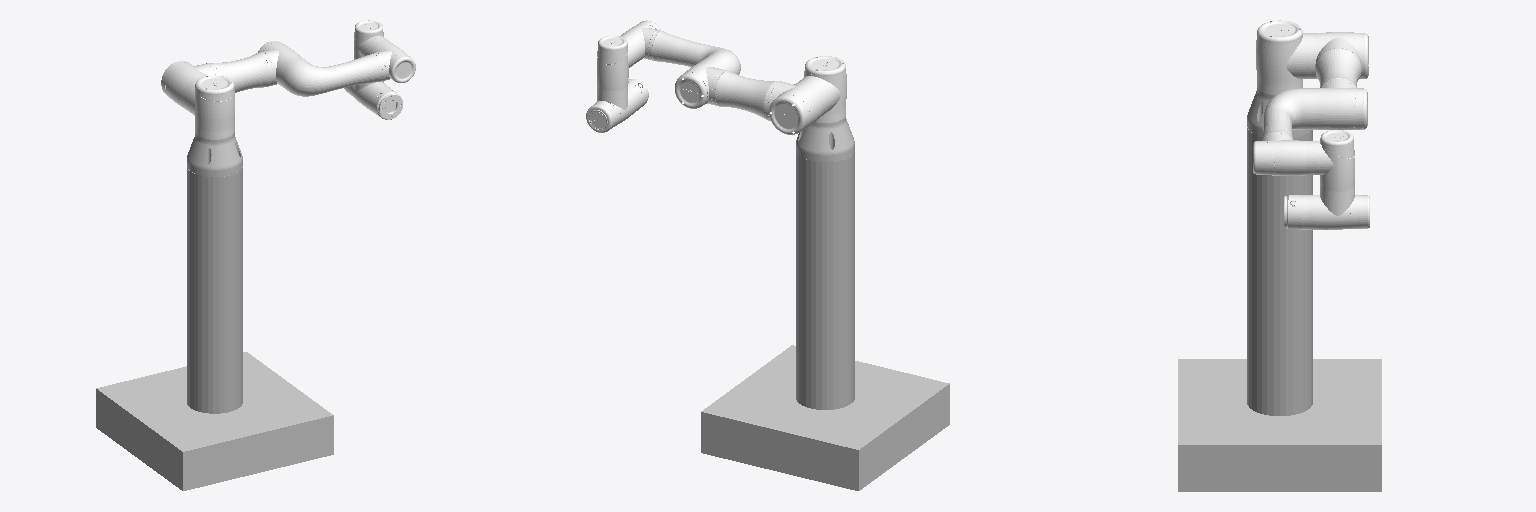
robot.urdf — jaka_zu3:
<?xml version="1.0" encoding="utf-8"?>
<!-- This URDF was automatically created by SolidWorks to URDF Exporter! Originally created by [author] ([email redacted]) 
     Commit Version: 1.6.0-1-g15f4949  Build Version: 1.6.7594.29634
     For more information, please see http://wiki.ros.org/sw_urdf_exporter -->
<robot name="jaka_zu3">
  <link name="base_footprint">
    <visual>
      <geometry>
        <sphere radius="0.001" />
      </geometry>
      <oringin xyz="0 0 0" rpy="0 0 0" />
    </visual>
  </link>
  
  <link name="plain_link" >
    <visual>
      <origin xyz="0 0 0" rpy="0 0 0" />
      <geometry>
        <box size="0.4 0.4 0.1" />
        <origin xyz="0 0 0" rpy="0 0 0" />
      </geometry>
      <material
        name="plaincolor">
        <color rgba="0.84706 0.84706 0.84706 1" />
      </material>
    </visual>
    <collision>
      <origin xyz="0 0 0" rpy="0 0 0" />
      <geometry>
        <box size="0.4 0.4 0.1" />
      </geometry>
    </collision>
    <inertial>
      <origin xyz="0 0 0" rpy="0 0 0" />
      <mass value="50.0" />
      <inertia ixx="0.70833" ixy="0.0" ixz="0.0" 
               iyy="1.33333" iyz="0.0" izz="0.70833" />
    </inertial>
  </link>

  <joint name="base2plain" type="fixed">
    <parent link="base_footprint" />
    <child link="plain_link" />
    <origin xyz="0 0 0.05" rpy="0 0 0" />
  </joint>


  <link name="cylinder_link">
    <visual>
      <geometry>
        <cylinder radius="0.065" length="0.6" /> 
      </geometry>
      <origin xyz="0 0 0" rpy="0 0 0" />
      <material name="gray">
        <color rgba="0.8 0.8 0.8 1" />
      </material>
    </visual>
    <collision>
      <geometry>
        <cylinder radius="0.065" length="0.6" />
      </geometry>
      <origin xyz="0 0 0" rpy="0 0 0" />
    </collision>
    <inertial>
      <origin xyz="0 0 0" rpy="0 0 0" />
      <mass value="20.0" />
      <inertia ixx="0.621125" ixy="0.0" ixz="0.0" 
               iyy="0.621125" iyz="0.0" izz="4.225" />
    </inertial>
  </link> 

  <joint name="plain2cylinder" type="fixed">
    <parent link="plain_link" />
    <child link="cylinder_link" />
    <origin xyz="0 0 0.35" rpy="0 0 0" />
  </joint>

  <link name="Link_0">
    <inertial>
      <origin
          xyz="0 0 0"
          rpy="0 0 0" />
      <mass
          value="0.46393" />
      <inertia
          ixx="0.00064494"
          ixy="-1.0227E-07"
          ixz="-1.0724E-05"
          iyy="0.00065157"
          iyz="3.7859E-07"
          izz="0.00083278" />
    </inertial>
    <visual>
      <origin xyz="0.0 0.0 0" rpy="0 0 0" />
      <geometry>
        <mesh filename="package://jaka_zu3_myurdf/meshes/Link_0.STL" />
      </geometry>
      <material
        name="Link_0Color">
        <color
          rgba="0.84706 0.84706 0.84706 1" />
      </material>
    </visual>
    <collision>
      <origin xyz="0 0 0" rpy="0 0 0" />
      <geometry>
        <mesh filename="package://jaka_zu3_myurdf/meshes/Link_0.STL" />
      </geometry>
    </collision>
  </link>

  <joint name="cylinder2base" type="fixed">
    <parent link="cylinder_link" />
    <child link="Link_0" />
    <origin xyz="0 0 0.3" rpy="0 0 0" />
  </joint>

  <link name="Link_1">
    <inertial>
        <origin
          xyz="0 0 0"
          rpy="0 0 0" />
        <mass
          value="0.88365" />
        <inertia
          ixx="0.0015634"
          ixy="1.5495E-08"
          ixz="5.6443E-09"
          iyy="0.0015047"
          iyz="-9.0168E-06"
          izz="0.0010527" />
      </inertial>
    
    <visual>
      <origin xyz="0 0 0" rpy="0 0 0" />
      <geometry>
        <mesh filename="package://jaka_zu3_myurdf/meshes/Link_1.STL" />
      </geometry>
      <material
        name="Link_1Color">
        <color
          rgba="1 1 1 1" />
      </material>
    </visual>
    <collision>
      <origin xyz="0 0 0" rpy="0 0 0" />
      <geometry>
        <mesh filename="package://jaka_zu3_myurdf/meshes/Link_1.STL" />
      </geometry>
    </collision>
  </link>

  <joint name="joint_1" type="revolute">
    <origin xyz="0 0 0.15055" rpy="0 0 0" />
    <parent link="Link_0" />
    <child link="Link_1" />
    <axis xyz="0 0 1" />
    <limit
      lower="-4.71"
      upper="4.71"
      effort="300"
      velocity="3.14" />
    <dynamics
      damping="50"
      friction="1" />
  </joint>

  <link name="Link_2">
    <inertial>
        <origin
          xyz="0.114 -5.5358E-07 -0.11162"
          rpy="0 0 0" />
        <mass
          value="2.3202" />
        <inertia
          ixx="0.0032518"
          ixy="1.6898E-08"
          ixz="-3.3843E-06"
          iyy="0.0045664"
          iyz="9.1919E-09"
          izz="0.0035107" />
      </inertial>
    <visual>
      <origin xyz="0 0 0" rpy="0 0 0" />
      <geometry>
        <mesh filename="package://jaka_zu3_myurdf/meshes/Link_2.STL" />
      </geometry>
      <material
        name="Link_2Color">
        <color
          rgba="1 1 1 1" />
      </material>
    </visual>
    <collision>
      <origin xyz="0 0 0" rpy="0 0 0" />
      <geometry>
        <mesh filename="package://jaka_zu3_myurdf/meshes/Link_2.STL" />
      </geometry>
    </collision>
  </link>

  <joint name="joint_2" type="revolute">
    <origin xyz="0 0 0" rpy="1.5708 0 0" />
    <parent link="Link_1" />
    <child link="Link_2" />
    <axis xyz="0 0 1" />
    <limit
      lower="-1.48"
      upper="4.62"
      effort="300"
      velocity="3.14" />
    <dynamics
      damping="50"
      friction="1" />
  </joint>

  <link name="Link_3">
    <inertial>
        <origin
          xyz="0 0 0"
          rpy="0 0 0" />
        <mass
          value="1.2034" />
        <inertia
          ixx="0.00093819"
          ixy="1.276E-07"
          ixz="-0.00033673"
          iyy="0.0038664"
          iyz="5.3811E-08"
          izz="0.0036229" />
      </inertial>
    
    <visual>
      <origin xyz="0 0 0" rpy="0 0 0" />
      <geometry>
        <mesh filename="package://jaka_zu3_myurdf/meshes/Link_3.STL" />
      </geometry>
      <material
        name="Link_3Color">
        <color
          rgba="1 1 1 1" />
      </material>
    </visual>
    <collision>
      <origin xyz="0 0 0" rpy="0 0 0" />
      <geometry>
        <mesh filename="package://jaka_zu3_myurdf/meshes/Link_3.STL" />
      </geometry>
    </collision>
  </link>

  <joint name="joint_3" type="revolute">
    <origin xyz="0.246 0 0" rpy="0 0 0" />
    <parent link="Link_2" />
    <child link="Link_3" />
    <axis xyz="0 0 1" />
    <limit lower="-3.05" upper="3.05" effort="330" velocity="3.14" />
    <dynamics damping="50" friction="1" />
  </joint>

  <link name="Link_4">
    <inertial>
        <origin
          xyz="6.5395E-08 -0.014051 0.0031609"
          rpy="0 0 0" />
        <mass
          value="0.49334" />
        <inertia
          ixx="0.00050163"
          ixy="-3.5155E-09"
          ixz="-2.6858E-09"
          iyy="0.00032415"
          iyz="-6.2159E-05"
          izz="0.00047909" />
      </inertial>
    
    <visual>
      <origin xyz="0 0 0" rpy="0 0 0" />
      <geometry>
        <mesh filename="package://jaka_zu3_myurdf/meshes/Link_4.STL" />
      </geometry>
      <material
        name="Link_4Color">
        <color
          rgba="1 1 1 1" />
      </material>
    </visual>
    <collision>
      <origin xyz="0 0 0" rpy="0 0 0" />
      <geometry>
        <mesh filename="package://jaka_zu3_myurdf/meshes/Link_4.STL" />
      </geometry>
    </collision>
  </link>
  <gazebo reference="Link_4">
    <meterial>Gazebo/Grey</meterial>
  </gazebo>

  <joint name="joint_4" type="revolute">
    <origin xyz="0.228 0 -0.113" rpy="0 0 0" />
    <parent link="Link_3" />
    <child link="Link_4" />
    <axis xyz="0 0 1" />
    <limit lower="-1.48" upper="4.62" effort="330" velocity="3.14" />
    <dynamics damping="50" friction="1" />
  </joint>

  <link name="Link_5">
    <inertial>
        <origin
          xyz="2.5684E-07 0.0068642 -0.0021581"
          rpy="0 0 0" />
        <mass
          value="0.55082" />
        <inertia
          ixx="0.0010014"
          ixy="4.8947E-09"
          ixz="4.7274E-10"
          iyy="0.00036028"
          iyz="-1.6847E-05"
          izz="0.0009728" />
      </inertial>
    
    <visual>
      <origin xyz="0 0 0" rpy="0 0 0" />
      <geometry>
        <mesh filename="package://jaka_zu3_myurdf/meshes/Link_5.STL" />
      </geometry>
      <material
        name="Link_5Color">
        <color
          rgba="1 1 1 1" />
      </material>
    </visual>
    <collision>
      <origin xyz="0 0 0" rpy="0 0 0" />
      <geometry>
        <mesh filename="package://jaka_zu3_myurdf/meshes/Link_5.STL" />
      </geometry>
    </collision>
  </link>
  <gazebo reference="Link_5">
    <meterial>Gazebo/Grey</meterial>
  </gazebo>

  <joint name="joint_5" type="revolute">
    <origin xyz="0 -0.11675 0" rpy="1.5708 0 0" />
    <parent link="Link_4" />
    <child link="Link_5" />
    <axis xyz="0 0 1" />
    <limit lower="-4.71" upper="4.71" effort="330" velocity="3.83" />
    <dynamics damping="50" friction="1" />
  </joint>

  <link name="Link_6">
    <inertial>
        <origin
          xyz="5.2572E-05 -0.0001007 -0.0091035"
          rpy="0 0 0" />
        <mass
          value="0.094884" />
        <inertia
          ixx="3.2886E-05"
          ixy="-8.8218E-08"
          ixz="-5.2215E-08"
          iyy="3.3701E-05"
          iyz="2.9383E-07"
          izz="5.458E-05" />
      </inertial>
    
    <visual>
      <origin xyz="0 0 0" rpy="0 0 0" />
      <geometry>
        <mesh filename="package://jaka_zu3_myurdf/meshes/Link_6.STL" />
      </geometry>
      <material
        name="Link_6Color">
        <color
          rgba="1 1 1 1" />
      </material>
    </visual>
    <collision>
      <origin xyz="0 0 0" rpy="0 0 0" />
      <geometry>
        <mesh filename="package://jaka_zu3_myurdf/meshes/Link_6.STL" />
      </geometry>
    </collision>
  </link>
  <gazebo reference="Link_6">
    <meterial>Gazebo/Grey</meterial>
  </gazebo>


  <joint name="joint_6" type="revolute">
    <origin
      xyz="0 0.0985 0"
      rpy="-1.5708 0 0" />
    <parent link="Link_5" />
    <child link="Link_6" />
    <axis xyz="0 0 -1" />
    <limit lower="-6.283185" upper="6.283185" effort="330" velocity="3.14" />
    <dynamics damping="50" friction="1" />
  </joint>
  

</robot>

--- Render facts (derived) ---
The picture shows the robot from 3 angles, left to right: view 1: azimuth 30°, elevation 25°; view 2: azimuth 150°, elevation 25°; view 3: azimuth 270°, elevation 25°; orthographic projection.
Robot: jaka_zu3 — 10 links, 9 joints (6 revolute, 3 fixed); root link base_footprint; default pose: every joint at zero.
Links seen in each view (by area): view 1: plain_link, cylinder_link, Link_3, Link_2, Link_1, Link_0, Link_4, Link_6, Link_5; view 2: plain_link, cylinder_link, Link_2, Link_3, Link_0, Link_4, Link_1, Link_5; view 3: plain_link, cylinder_link, Link_2, Link_3, Link_1, Link_4, Link_5, Link_0.
Link boxes in pixels (x1,y1,x2,y2): plain_link: (96,352,333,490); cylinder_link: (187,167,242,413); Link_3: (282,37,415,96); Link_2: (161,41,304,112); Link_1: (187,76,234,139); Link_0: (187,132,242,176); Link_4: (354,20,383,59); Link_6: (373,89,402,119); Link_5: (344,81,390,114); plain_link: (701,345,949,490); cylinder_link: (796,152,854,409); Link_2: (675,55,831,134); Link_3: (620,20,740,74); Link_0: (796,117,854,161); Link_4: (597,36,635,98); Link_1: (804,56,846,122); Link_5: (586,83,642,132); plain_link: (1178,359,1381,491); cylinder_link: (1247,127,1312,415); Link_2: (1304,32,1368,129); Link_3: (1253,88,1315,175); Link_1: (1256,20,1305,94); Link_4: (1316,130,1354,199); Link_5: (1299,194,1369,229); Link_0: (1247,88,1310,137).
Bounding box of the posed robot: 0.709 × 0.4 × 0.9105 m (x, y, z).
7 mesh visuals loaded from 7 distinct referenced files (7 binary STL).
